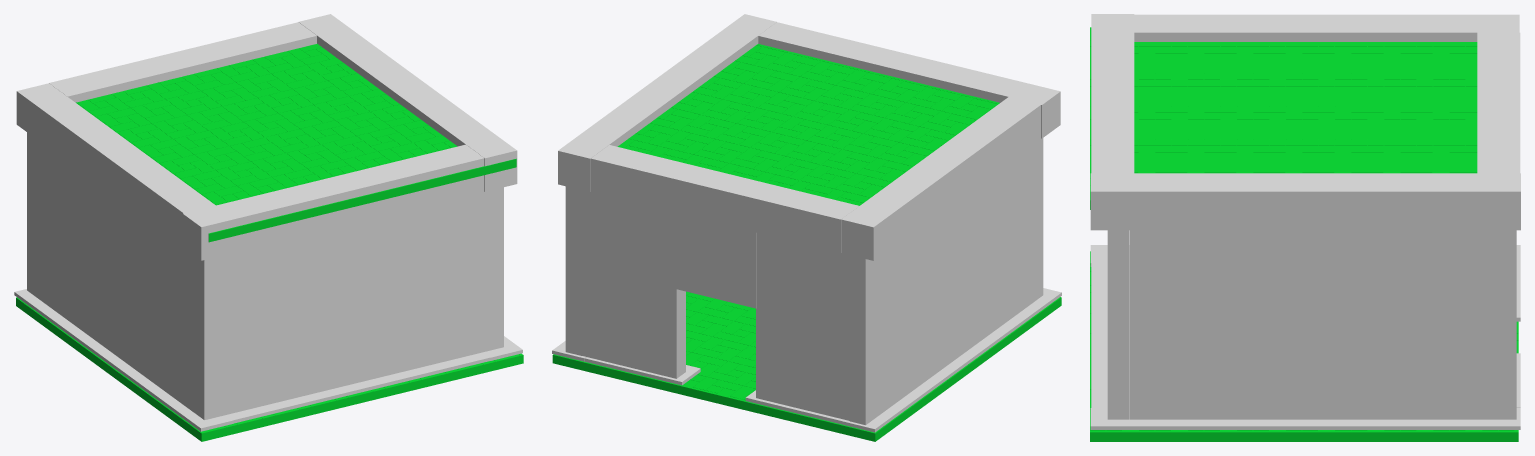
The picture shows the model from 3 angles, left to right: view 1: azimuth 30°, elevation 25°; view 2: azimuth 150°, elevation 25°; view 3: azimuth 270°, elevation 25°; orthographic projection. The views are drawn at different scales.
Parts seen in each view (by area): view 1: Cube.029, Floor.003, Cube.055, Cube.062, Cube.058, Cube.063, Cube.057, Floor.002, Cube.060, Cube.025, Cube.059, Cube.051 (+1 smaller); view 2: Cube.056, Floor.003, Cube.055, Floor.002, Cube.057, Cube.062, Cube.063, Cube.058, Cube.061, Cube.059, Cube.025, Cube.054 (+4 smaller); view 3: Cube.054, Floor.003, Cube.063, Cube.062, Cube.026, Cube.058, Cube.057, Floor.002, Cube.050, Cube.029, Cube.051, Cube.025.
Boxes of the visible parts, x1,y1,x2,y2 form: Cube.029: (195, 187, 503, 420); Floor.003: (76, 43, 516, 242); Cube.055: (27, 132, 194, 412); Cube.062: (16, 83, 215, 228); Cube.058: (182, 144, 484, 243); Cube.063: (299, 14, 517, 170); Cube.057: (49, 22, 316, 102); Floor.002: (16, 297, 523, 441); Cube.060: (182, 175, 484, 260); Cube.025: (14, 289, 233, 431); Cube.059: (16, 108, 182, 245); Cube.051: (226, 352, 490, 423); Cube.056: (582, 190, 849, 420); Floor.003: (617, 44, 999, 205); Cube.055: (849, 144, 1033, 425); Floor.002: (552, 291, 1061, 441); Cube.057: (590, 145, 858, 236); Cube.062: (841, 97, 1040, 243); Cube.063: (558, 14, 776, 175); Cube.058: (758, 22, 1060, 121); Cube.061: (590, 175, 841, 252); Cube.059: (841, 122, 1040, 260); Cube.025: (842, 288, 1061, 432); Cube.054: (565, 186, 581, 355); Cube.054: (1129, 230, 1516, 419); Floor.003: (1090, 27, 1477, 209); Cube.063: (1090, 173, 1520, 210); Cube.062: (1133, 14, 1519, 41); Cube.026: (1090, 210, 1520, 230); Cube.058: (1091, 14, 1134, 173); Cube.057: (1477, 32, 1520, 173); Floor.002: (1090, 251, 1518, 441); Cube.050: (1090, 408, 1520, 429); Cube.029: (1107, 230, 1129, 419); Cube.051: (1091, 262, 1129, 407); Cube.025: (1090, 245, 1520, 266).
Size of the model in its own units: 2 by 2 by 1.27.
